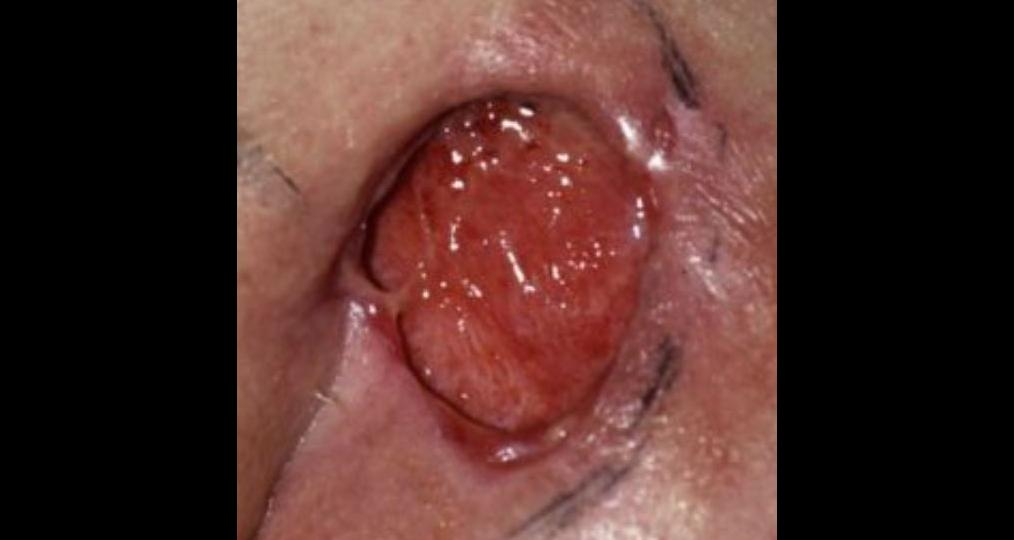Stage4: (290, 50, 702, 538)
